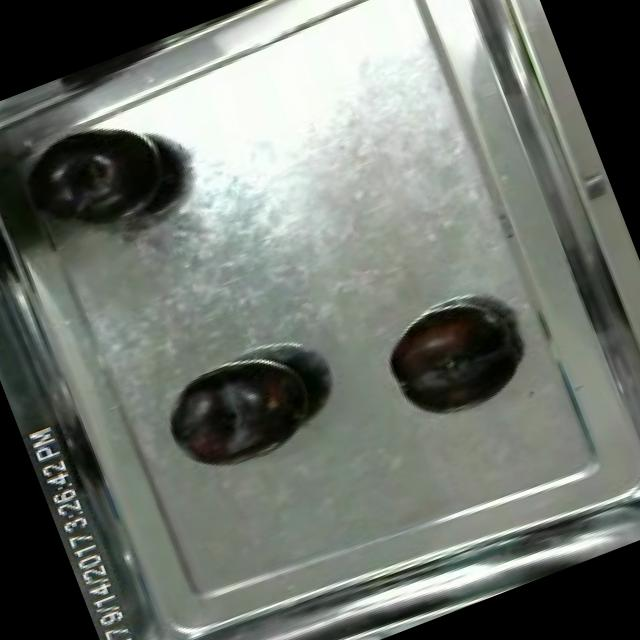Fruit: (16, 97, 199, 258), (152, 338, 334, 488), (374, 290, 529, 432)
